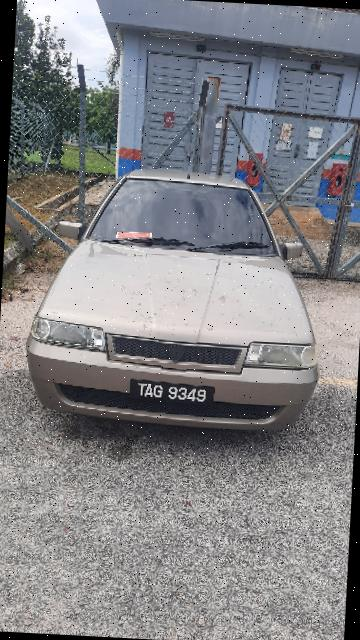License_Plate: (122, 374, 222, 413)
car: (22, 160, 338, 442)
